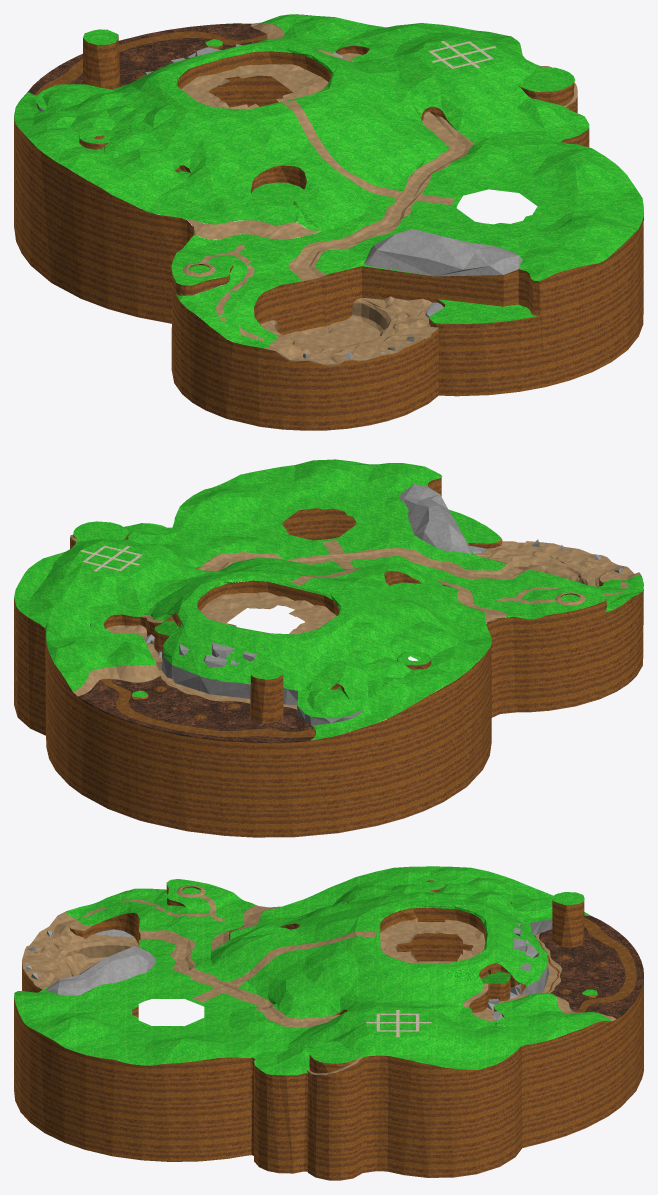
The model's file is PeachWorld.obj.
3 renders of one model, top to bottom at view 1: azimuth 30°, elevation 25°; view 2: azimuth 150°, elevation 25°; view 3: azimuth 270°, elevation 25°, orthographic. The views are drawn at different scales.
Parts seen in each view (by area): view 1: pPlane1044__GroundBaseSoil05; view 2: pPlane1044__GroundBaseSoil05; view 3: pPlane1044__GroundBaseSoil05.
Boxes of the visible parts, x1,y1,x2,y2 form: pPlane1044__GroundBaseSoil05: (14, 14, 643, 430); pPlane1044__GroundBaseSoil05: (14, 459, 643, 837); pPlane1044__GroundBaseSoil05: (14, 866, 643, 1180).
Bounding box in the file's own units: 30591 × 9112 × 38406.
